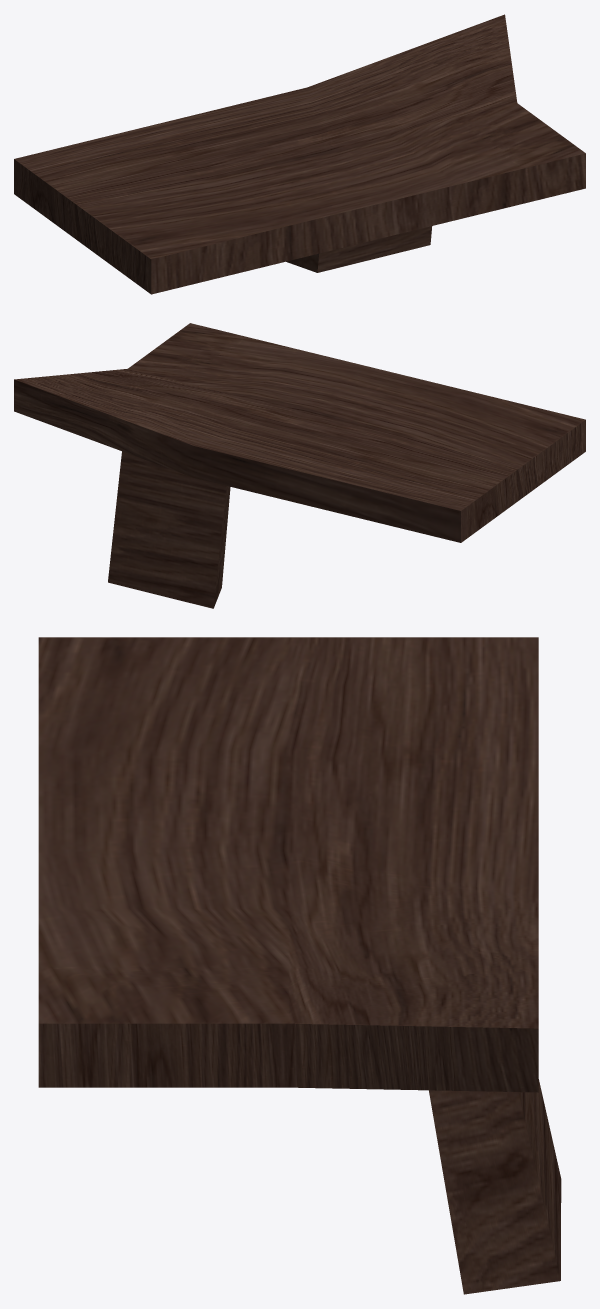
File: NNJ0510018.fbx
The picture shows the model from 3 angles, top to bottom: view 1: azimuth 30°, elevation 25°; view 2: azimuth 150°, elevation 25°; view 3: azimuth 270°, elevation 25°; orthographic projection. The views are drawn at different scales.
Parts seen in each view (by area): view 1: smNNJ0510018; view 2: smNNJ0510018; view 3: smNNJ0510018.
Part boxes in pixels (<box>): smNNJ0510018: <box>14,14,585,294</box>; smNNJ0510018: <box>14,323,585,608</box>; smNNJ0510018: <box>38,637,561,1294</box>.
Size of the model in its own units: 110 by 41.38 by 55.78.
1 material, 1 textured.
